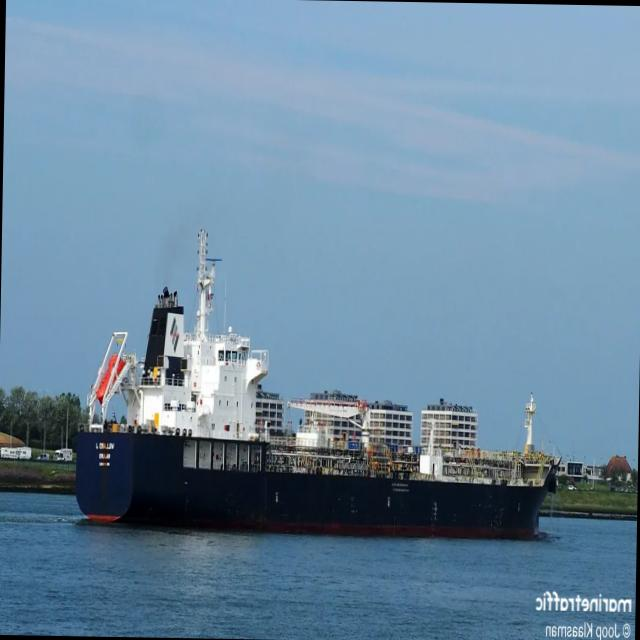Tanker: (75, 229, 560, 539)
